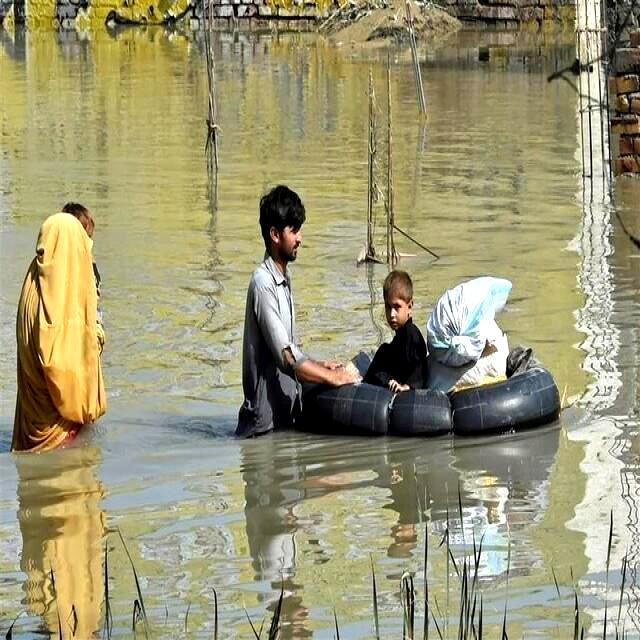civilian: (0, 185, 121, 459), (224, 184, 337, 438), (355, 266, 440, 406), (54, 192, 111, 366)
